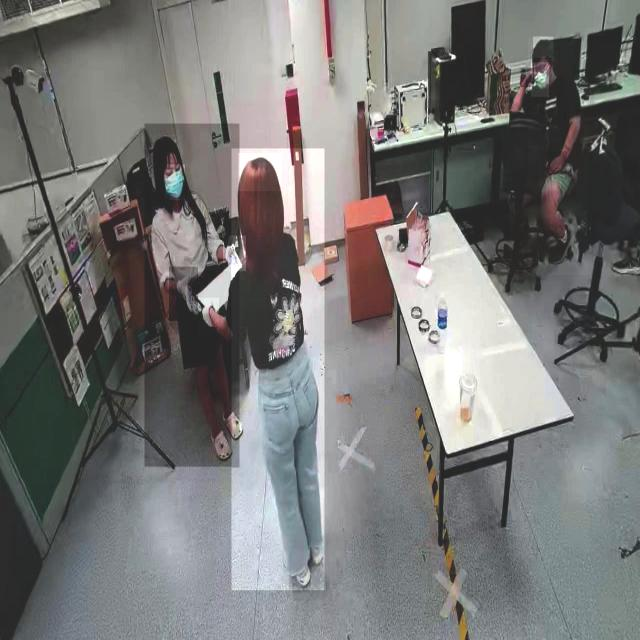face_mask: (165, 164, 185, 200), (531, 62, 549, 98)
hand_glove: (169, 267, 198, 321), (197, 298, 219, 337), (223, 236, 246, 271)
hand_noglove: (548, 151, 566, 175), (520, 68, 534, 88)
head_nohelmet: (238, 153, 282, 192), (151, 135, 183, 157), (532, 36, 554, 58)
person: (231, 149, 325, 591), (144, 124, 240, 468), (528, 38, 588, 276)
shoes: (280, 538, 310, 592), (546, 214, 576, 268), (297, 522, 325, 569)
